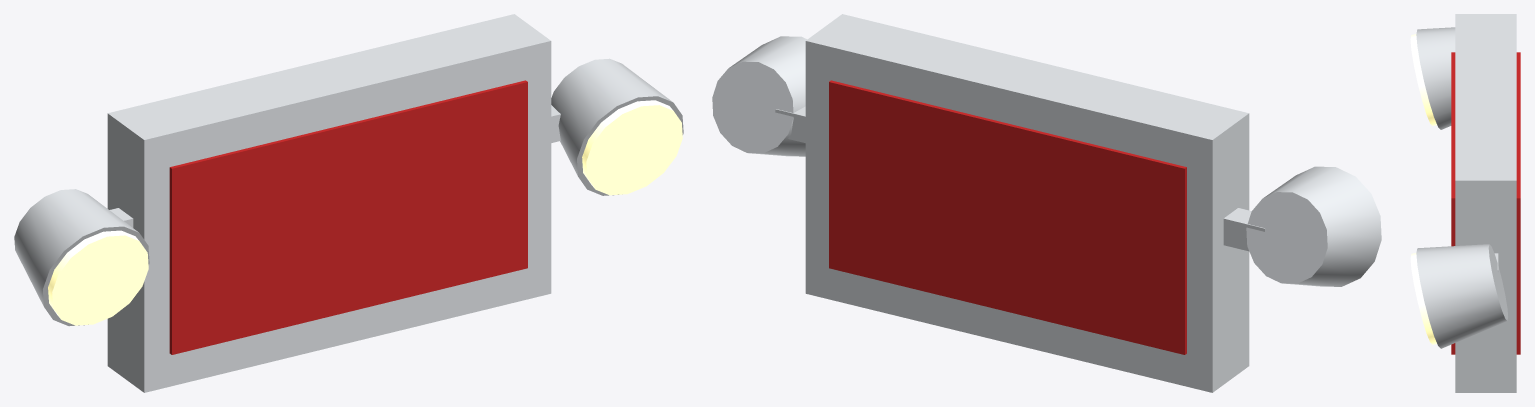
3 views of the same model, side by side, from view 1: azimuth 30°, elevation 25°; view 2: azimuth 150°, elevation 25°; view 3: azimuth 270°, elevation 25° (orthographic). The views are drawn at different scales.
Parts seen in each view (by area): view 1: cad-fixture-exit-sign; view 2: cad-fixture-exit-sign; view 3: cad-fixture-exit-sign.
Boxes of the visible parts, left/top/right/bottom form: cad-fixture-exit-sign: left=14, top=14, right=683, bottom=392; cad-fixture-exit-sign: left=712, top=14, right=1381, bottom=392; cad-fixture-exit-sign: left=1410, top=14, right=1520, bottom=392.
Size of the model in its own units: 0.504 by 0.19 by 0.0893.
